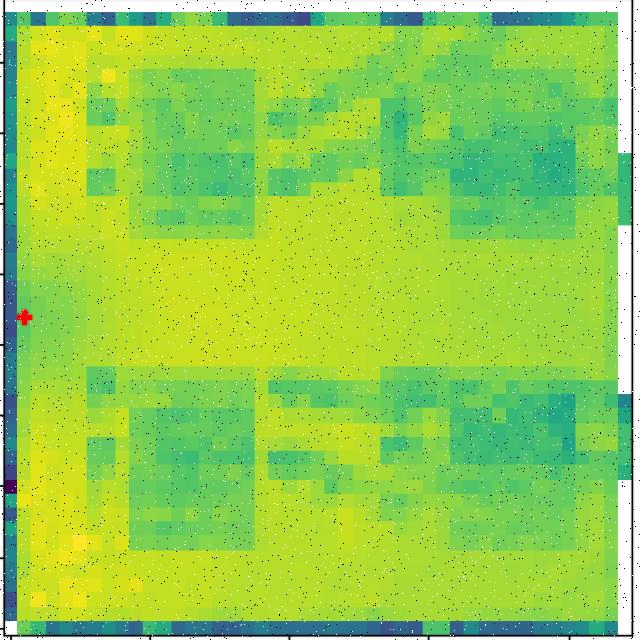Concrete: (392, 46, 594, 253)
Glass: (118, 47, 278, 269)
Metal: (401, 350, 593, 577)
Wood: (109, 358, 269, 574)
